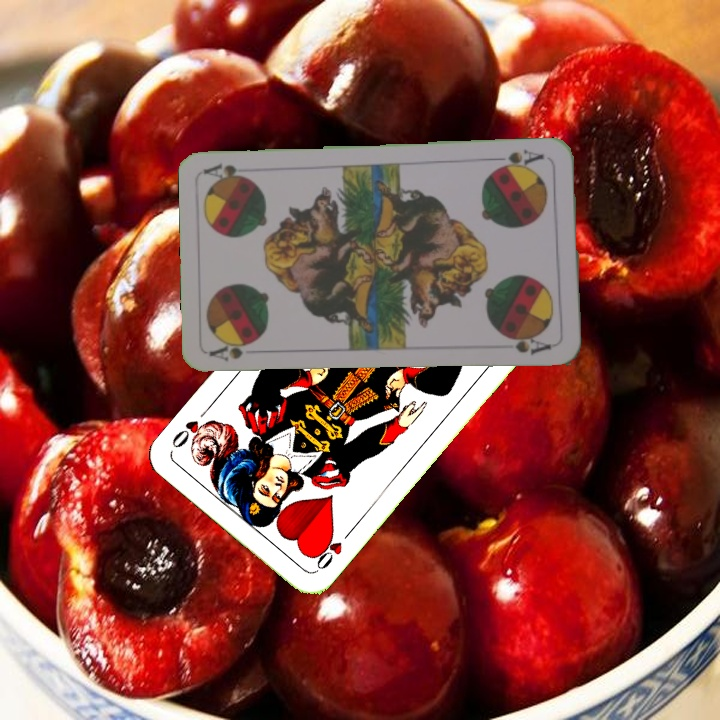HO: (308, 525, 355, 574)
SA: (206, 336, 262, 363), (493, 145, 547, 172)
